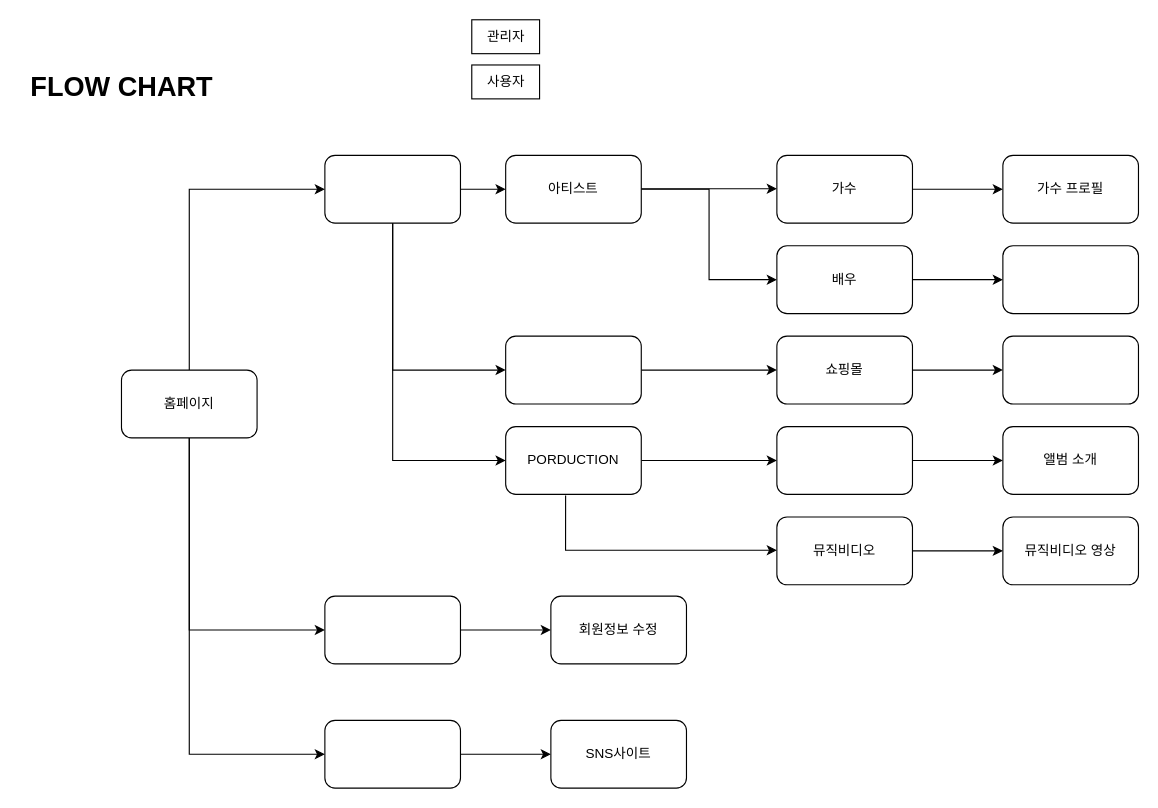
Some shapes in this 1158 by 808 pixel diagram are drawn without their labels. The shapes that lost their labels are listed below. From the top down, each one's box as (x1, y1, x2, y2) in pixels, then its label:
(324, 154, 460, 223): 목록
(1002, 245, 1138, 314): 배우 프로필
(505, 335, 641, 404): 쇼핑
(1002, 335, 1138, 404): 물품
(776, 425, 912, 494): 앨범
(324, 595, 460, 664): 마이페이지
(324, 719, 460, 788): SNS
